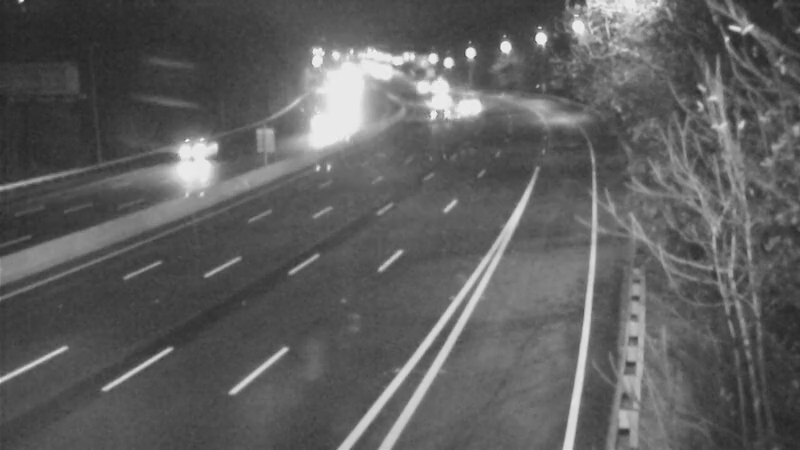vehicle: (157, 112, 237, 192), (411, 58, 461, 108), (409, 76, 459, 126), (442, 83, 492, 133), (407, 89, 457, 139), (299, 108, 349, 158)
